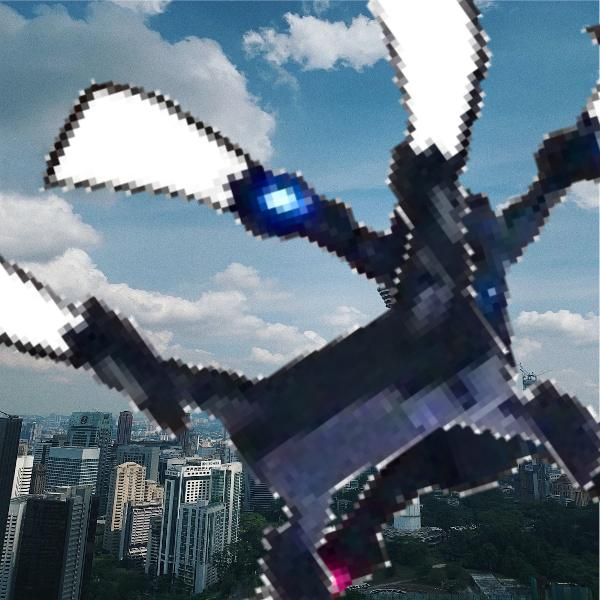drone: (336, 317, 470, 451)
